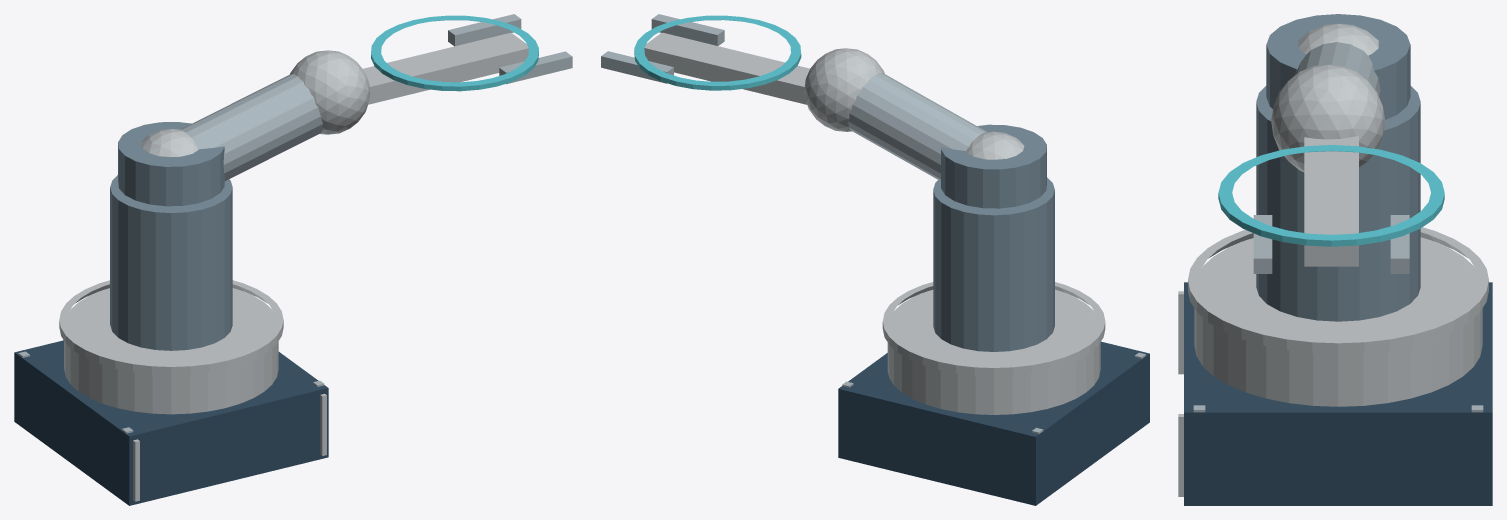
The model's file is 12_L74_AutomatedWaferHandlingRobot.glb.
3 renders of one model, left to right at view 1: azimuth 30°, elevation 25°; view 2: azimuth 150°, elevation 25°; view 3: azimuth 270°, elevation 25°, orthographic. The views are drawn at different scales.
Parts seen in each view (by area): view 1: AutomatedWaferHandlingRobot_Node_0000, AutomatedWaferHandlingRobot_Node_0009, AutomatedWaferHandlingRobot_Node_0007, AutomatedWaferHandlingRobot_Node_0010, AutomatedWaferHandlingRobot_Node_0013, AutomatedWaferHandlingRobot_Node_0014, AutomatedWaferHandlingRobot_Node_0012, AutomatedWaferHandlingRobot_Node_0008, AutomatedWaferHandlingRobot_Node_0017, AutomatedWaferHandlingRobot_Node_0011, AutomatedWaferHandlingRobot_Node_0015, AutomatedWaferHandlingRobot_Node_0016; view 2: AutomatedWaferHandlingRobot_Node_0000, AutomatedWaferHandlingRobot_Node_0009, AutomatedWaferHandlingRobot_Node_0007, AutomatedWaferHandlingRobot_Node_0010, AutomatedWaferHandlingRobot_Node_0013, AutomatedWaferHandlingRobot_Node_0014, AutomatedWaferHandlingRobot_Node_0012, AutomatedWaferHandlingRobot_Node_0008, AutomatedWaferHandlingRobot_Node_0017, AutomatedWaferHandlingRobot_Node_0011, AutomatedWaferHandlingRobot_Node_0016, AutomatedWaferHandlingRobot_Node_0015; view 3: AutomatedWaferHandlingRobot_Node_0000, AutomatedWaferHandlingRobot_Node_0007, AutomatedWaferHandlingRobot_Node_0009, AutomatedWaferHandlingRobot_Node_0012, AutomatedWaferHandlingRobot_Node_0008, AutomatedWaferHandlingRobot_Node_0014, AutomatedWaferHandlingRobot_Node_0013, AutomatedWaferHandlingRobot_Node_0017, AutomatedWaferHandlingRobot_Node_0010, AutomatedWaferHandlingRobot_Node_0011, AutomatedWaferHandlingRobot_Node_0015, AutomatedWaferHandlingRobot_Node_0016 (+2 smaller).
Part boxes in pixels (bbox=[...]): AutomatedWaferHandlingRobot_Node_0000: bbox=[14, 340, 328, 505]; AutomatedWaferHandlingRobot_Node_0009: bbox=[110, 175, 232, 350]; AutomatedWaferHandlingRobot_Node_0007: bbox=[64, 288, 278, 414]; AutomatedWaferHandlingRobot_Node_0010: bbox=[180, 74, 322, 180]; AutomatedWaferHandlingRobot_Node_0013: bbox=[118, 122, 224, 206]; AutomatedWaferHandlingRobot_Node_0014: bbox=[363, 32, 528, 104]; AutomatedWaferHandlingRobot_Node_0012: bbox=[290, 50, 370, 134]; AutomatedWaferHandlingRobot_Node_0008: bbox=[59, 280, 283, 374]; AutomatedWaferHandlingRobot_Node_0017: bbox=[371, 15, 538, 91]; AutomatedWaferHandlingRobot_Node_0011: bbox=[141, 129, 198, 156]; AutomatedWaferHandlingRobot_Node_0015: bbox=[448, 14, 521, 46]; AutomatedWaferHandlingRobot_Node_0016: bbox=[499, 51, 572, 84]; AutomatedWaferHandlingRobot_Node_0000: bbox=[838, 341, 1149, 505]; AutomatedWaferHandlingRobot_Node_0009: bbox=[933, 177, 1054, 351]; AutomatedWaferHandlingRobot_Node_0007: bbox=[887, 289, 1100, 414]; AutomatedWaferHandlingRobot_Node_0010: bbox=[848, 72, 987, 180]; AutomatedWaferHandlingRobot_Node_0013: bbox=[941, 124, 1046, 208]; AutomatedWaferHandlingRobot_Node_0014: bbox=[644, 32, 809, 104]; AutomatedWaferHandlingRobot_Node_0012: bbox=[804, 48, 884, 131]; AutomatedWaferHandlingRobot_Node_0008: bbox=[882, 282, 1105, 375]; AutomatedWaferHandlingRobot_Node_0017: bbox=[634, 15, 801, 90]; AutomatedWaferHandlingRobot_Node_0011: bbox=[966, 131, 1024, 159]; AutomatedWaferHandlingRobot_Node_0016: bbox=[651, 14, 724, 45]; AutomatedWaferHandlingRobot_Node_0015: bbox=[601, 51, 673, 83]; AutomatedWaferHandlingRobot_Node_0000: bbox=[1184, 282, 1492, 505]; AutomatedWaferHandlingRobot_Node_0007: bbox=[1194, 237, 1482, 406]; AutomatedWaferHandlingRobot_Node_0009: bbox=[1256, 86, 1420, 321]; AutomatedWaferHandlingRobot_Node_0012: bbox=[1271, 64, 1385, 171]; AutomatedWaferHandlingRobot_Node_0008: bbox=[1188, 227, 1488, 354]; AutomatedWaferHandlingRobot_Node_0014: bbox=[1304, 135, 1358, 266]; AutomatedWaferHandlingRobot_Node_0013: bbox=[1266, 14, 1410, 119]; AutomatedWaferHandlingRobot_Node_0017: bbox=[1218, 145, 1444, 246]; AutomatedWaferHandlingRobot_Node_0010: bbox=[1293, 42, 1380, 96]; AutomatedWaferHandlingRobot_Node_0011: bbox=[1298, 23, 1378, 55]; AutomatedWaferHandlingRobot_Node_0015: bbox=[1390, 215, 1409, 273]; AutomatedWaferHandlingRobot_Node_0016: bbox=[1253, 215, 1272, 273].
Bounding box in the file's own units: 2.12 × 1.52 × 0.9174.
